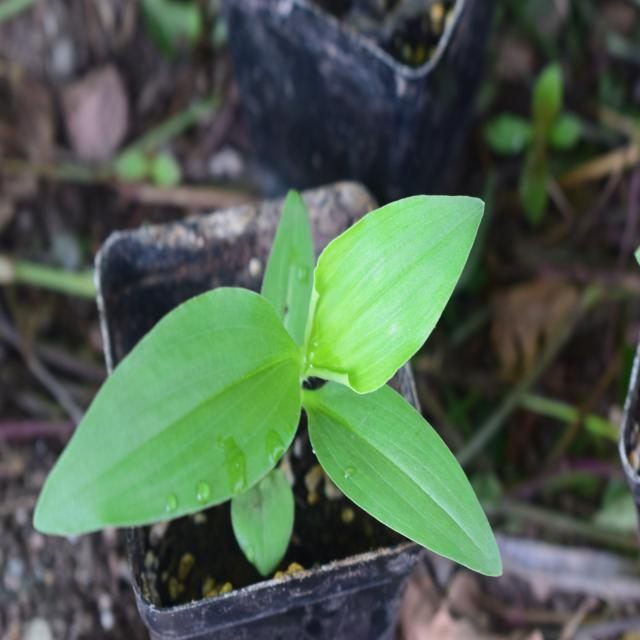Common Dayflower: (42, 163, 493, 602)
